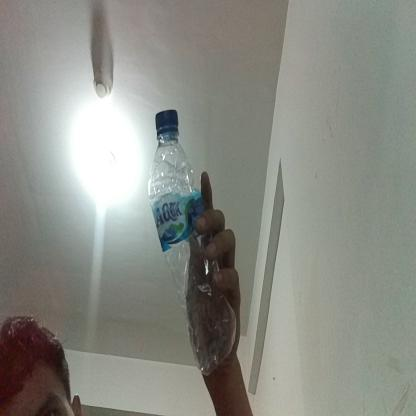plastic_bottles: (147, 104, 237, 374)
